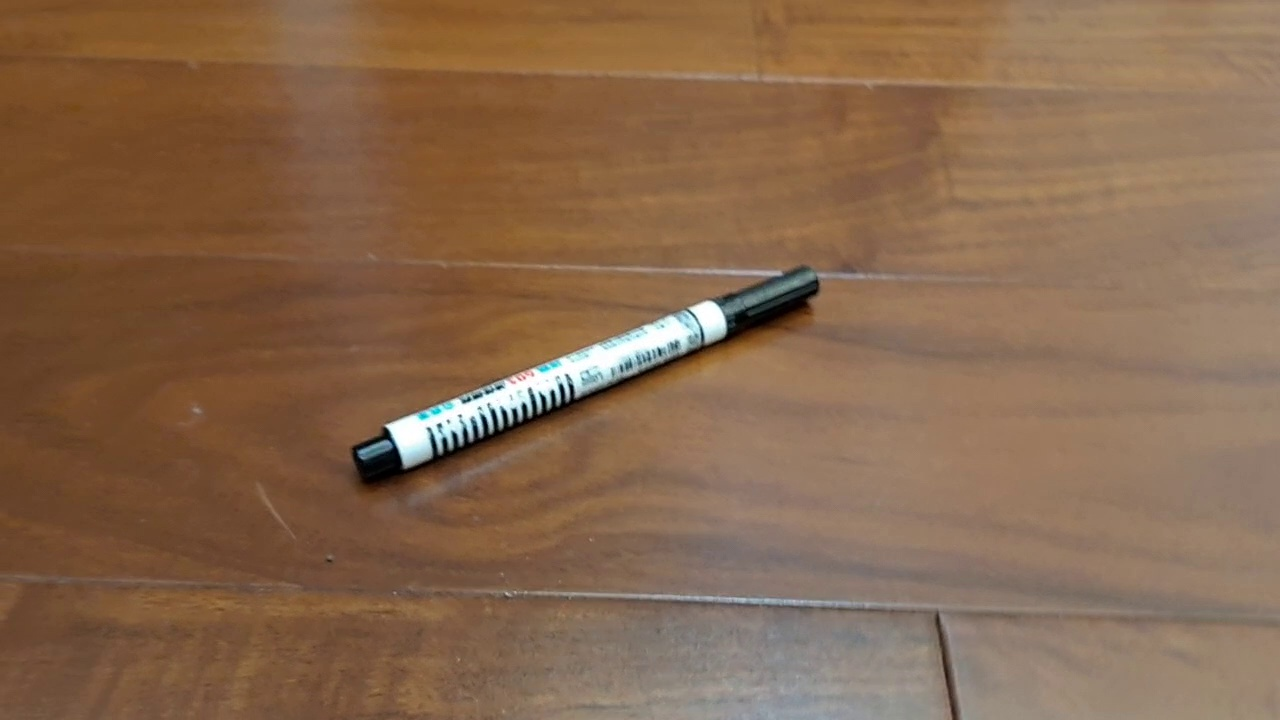pen: (349, 262, 823, 486)
